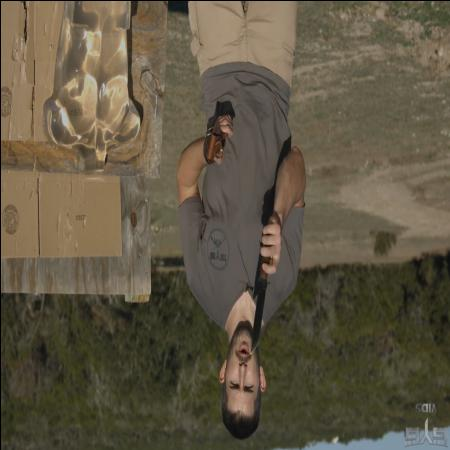long weapon: (245, 217, 283, 362)
